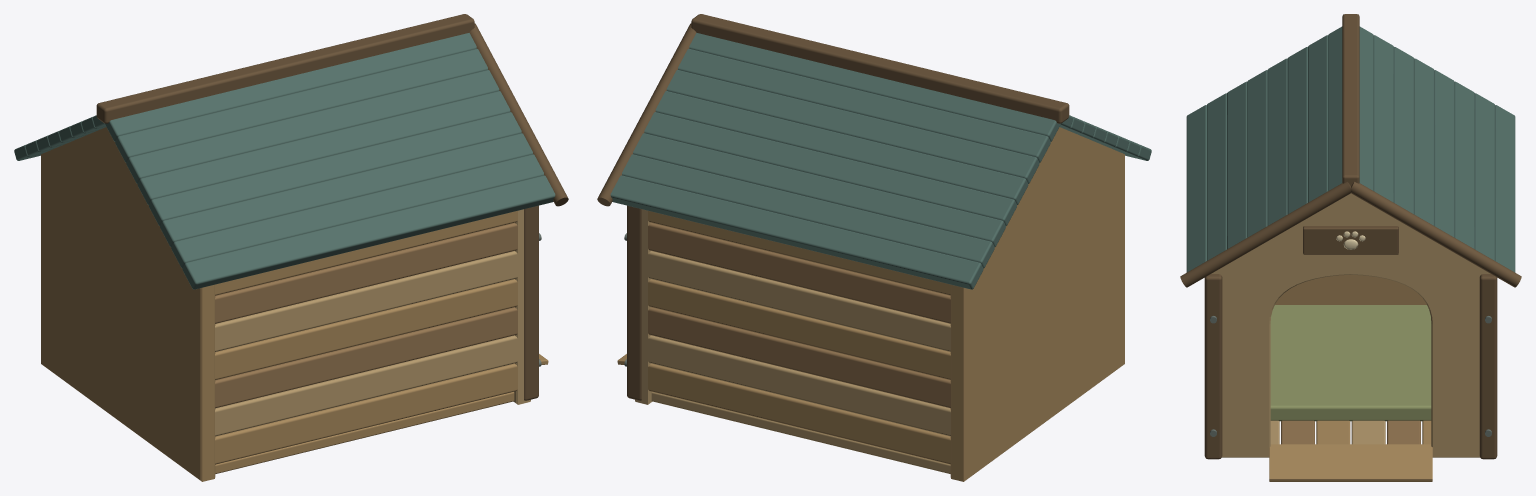
The model's file is dog-house.glb.
3 renders of one model, left to right at view 1: azimuth 30°, elevation 25°; view 2: azimuth 150°, elevation 25°; view 3: azimuth 270°, elevation 25°, orthographic. The views are drawn at different scales.
Parts seen in each view (by area): view 1: replaceable-shiba-house; view 2: replaceable-shiba-house; view 3: replaceable-shiba-house, shiba-bed.
Boxes of the visible parts, left/top/right/bottom form: replaceable-shiba-house: left=14, top=14, right=568, bottom=481; replaceable-shiba-house: left=597, top=14, right=1151, bottom=481; replaceable-shiba-house: left=1180, top=14, right=1521, bottom=481; shiba-bed: left=1270, top=305, right=1431, bottom=421.
Bounding box in the file's own units: 2.17 × 1.67 × 1.76.
